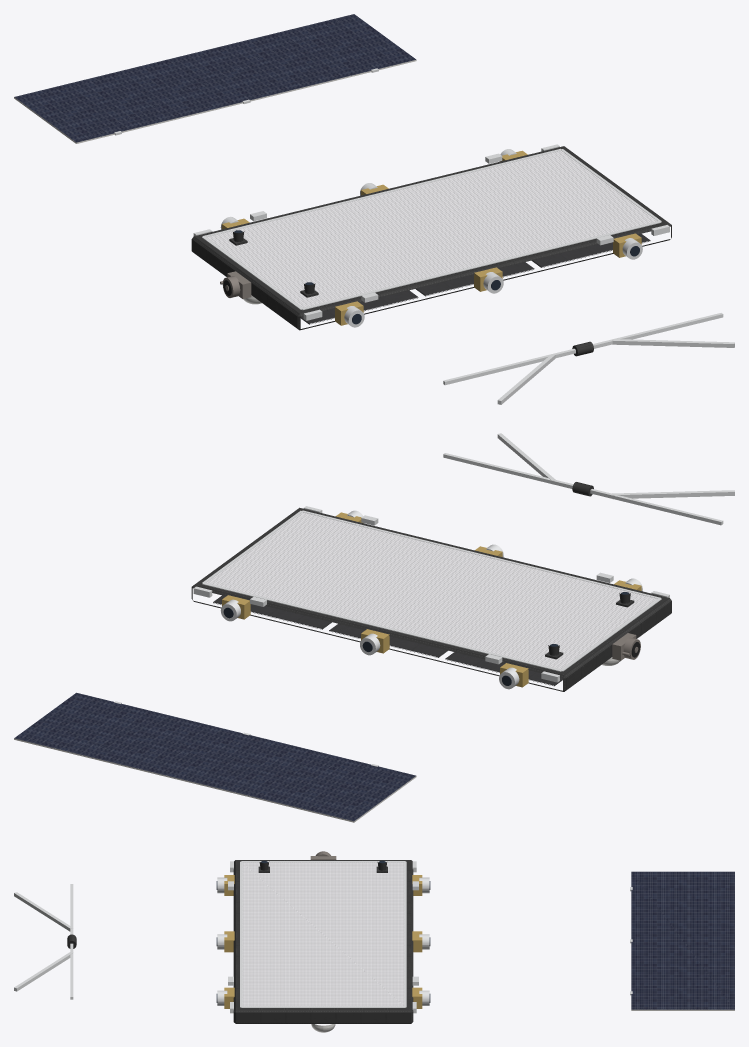
Rendered from starlink_v3.glb.
3 renders of one model, top to bottom at view 1: azimuth 30°, elevation 25°; view 2: azimuth 150°, elevation 25°; view 3: azimuth 270°, elevation 25°, orthographic. The views are drawn at different scales.
Visible parts, largest first — view 1: Radiator, SolarCells, BusBody, YokeTruss, RadiatorFrame, PhasedArrays, LaserMounts, LaserTerminals, Fittings, PanelBack; view 2: Radiator, SolarCells, BusBody, YokeTruss, RadiatorFrame, PhasedArrays, LaserMounts, LaserTerminals, Fittings, PanelBack; view 3: Radiator, SolarCells, BusBody, RadiatorFrame, YokeTruss, LaserMounts, LaserTerminals, Fittings.
Boxes of the visible parts, x1,y1,x2,y2 form: Radiator: [206, 150, 657, 307]; SolarCells: [14, 14, 415, 142]; BusBody: [191, 146, 671, 330]; YokeTruss: [443, 313, 734, 404]; RadiatorFrame: [202, 148, 661, 309]; PhasedArrays: [300, 233, 650, 324]; LaserMounts: [222, 150, 641, 325]; LaserTerminals: [220, 149, 642, 327]; Fittings: [193, 144, 669, 320]; PanelBack: [14, 59, 416, 143]; Radiator: [206, 512, 657, 669]; SolarCells: [14, 692, 415, 821]; BusBody: [191, 507, 671, 691]; YokeTruss: [443, 433, 734, 525]; RadiatorFrame: [202, 510, 661, 671]; PhasedArrays: [213, 595, 562, 686]; LaserMounts: [222, 512, 641, 687]; LaserTerminals: [220, 510, 642, 689]; Fittings: [193, 506, 669, 682]; PanelBack: [14, 738, 416, 822]; Radiator: [242, 862, 404, 1006]; SolarCells: [631, 871, 734, 1009]; BusBody: [233, 860, 413, 1023]; RadiatorFrame: [240, 861, 406, 1007]; YokeTruss: [14, 884, 73, 999]; LaserMounts: [224, 875, 422, 1008]; LaserTerminals: [217, 877, 429, 1005]; Fittings: [228, 861, 418, 1013].
Bounding box in the file's own units: 7.37 × 0.74 × 14.05.
Materials: 11 (5 with a texture image).
